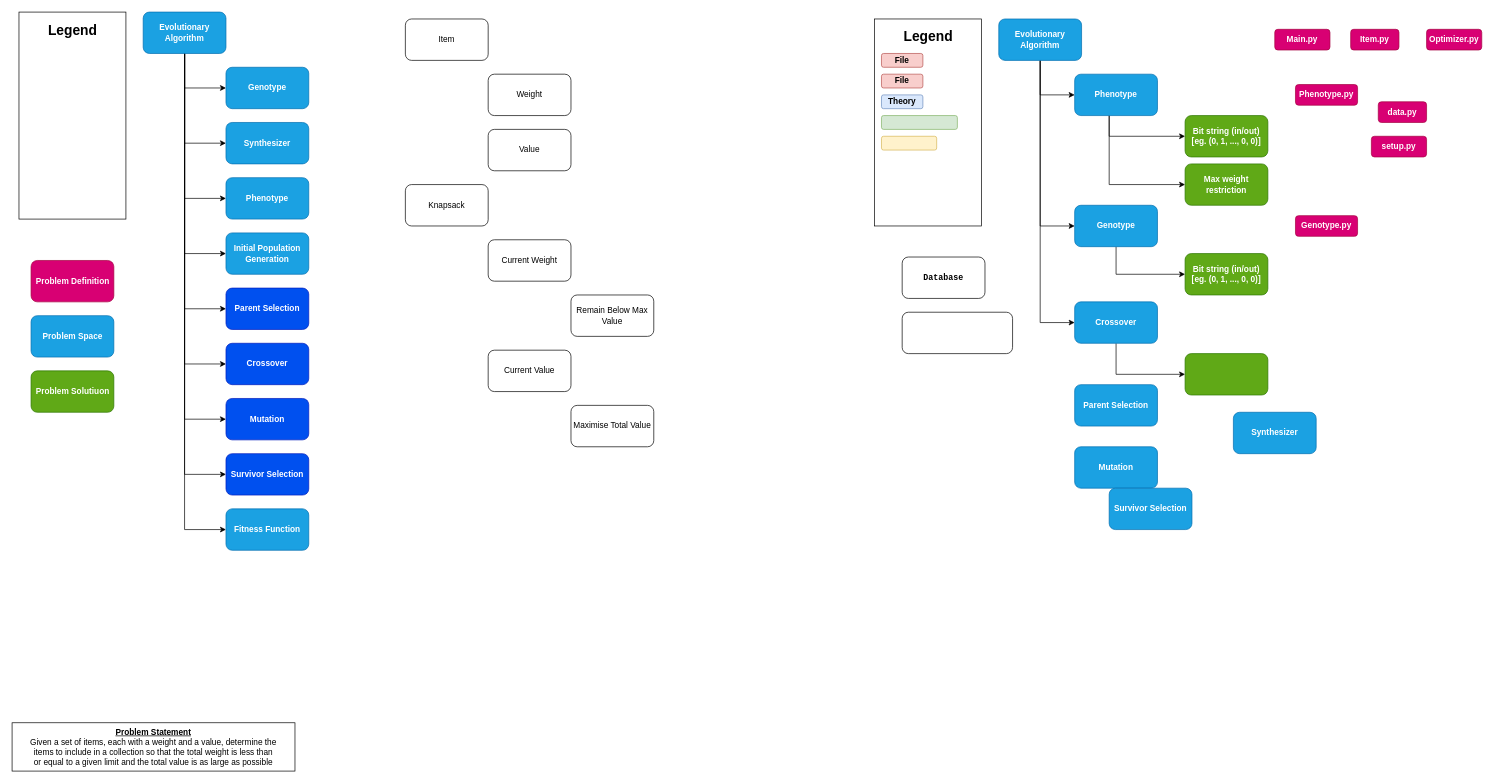
Image size: 1494x783. Some labels were removed from this diagram. The shapes that lost their labels are listed below. From the top down, each one's centre as x and y in pixels, then its label:
the point at 919,122: Techincal Choice
the point at 909,143: Player Goal
the point at 957,333: EvolutionaryOptimizer
the point at 1226,374: One Point Crossover
